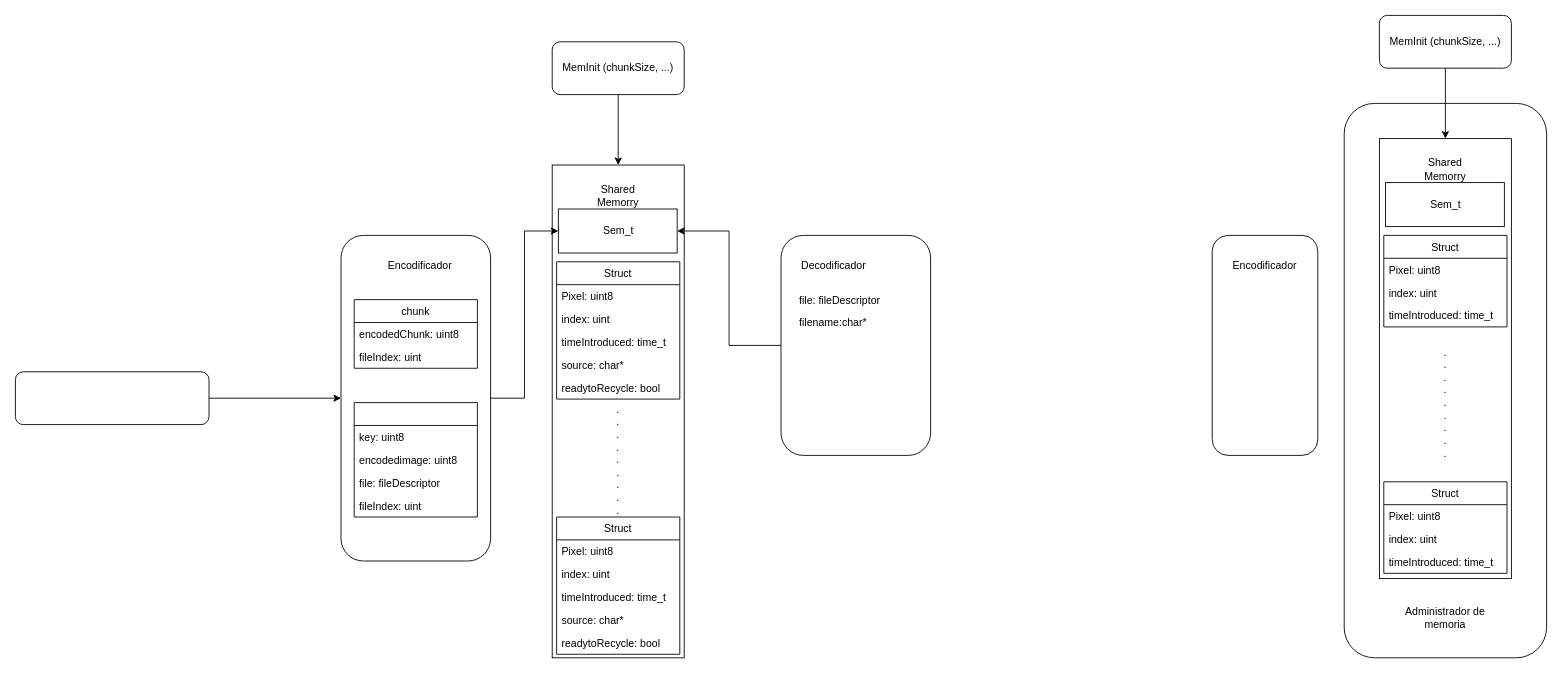
This 1562x673 diagram has some shape labels left out. The box of each missing label's shape, as (x1, y1, x2, y2) in pixels:
encoder: (353, 402, 477, 517)
encoder( name, chunk size, mode, key): (15, 371, 209, 425)
